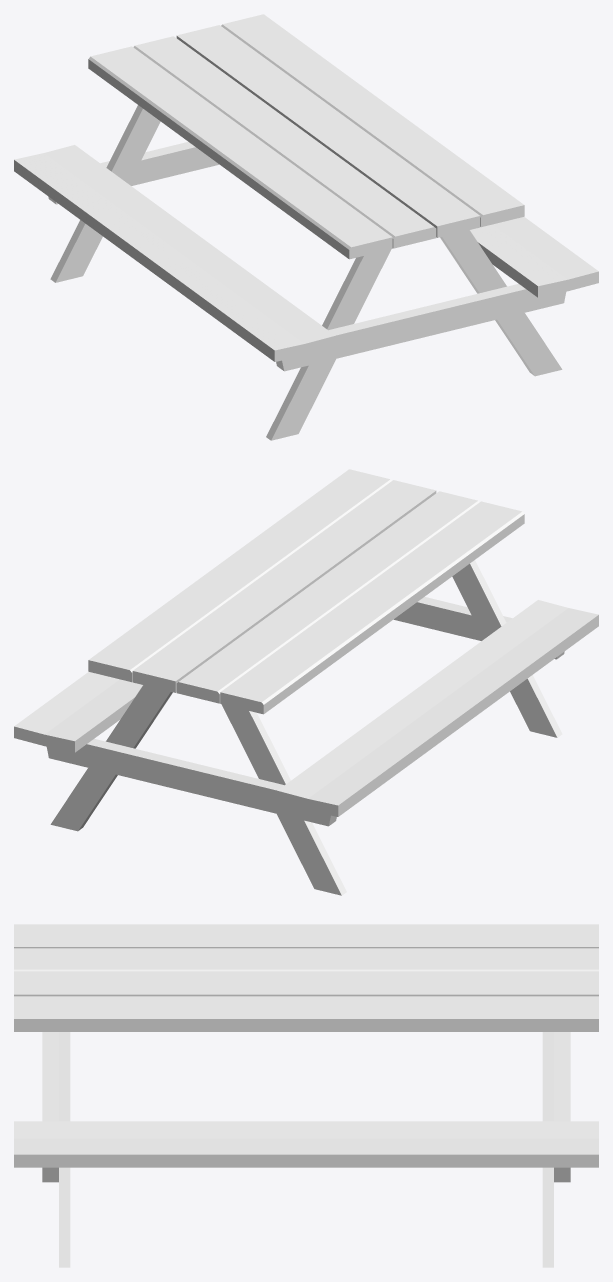
The model's file is Prop_Wooden_Table_01.glb.
The picture shows the model from 3 angles, top to bottom: view 1: azimuth 30°, elevation 25°; view 2: azimuth 150°, elevation 25°; view 3: azimuth 270°, elevation 25°; orthographic projection. The views are drawn at different scales.
Parts seen in each view (by area): view 1: Prop_Wooden_Table_01; view 2: Prop_Wooden_Table_01; view 3: Prop_Wooden_Table_01.
Part boxes in pixels (x1=…): Prop_Wooden_Table_01: x1=14, y1=14, x2=598, y2=440; Prop_Wooden_Table_01: x1=14, y1=469, x2=598, y2=895; Prop_Wooden_Table_01: x1=14, y1=924, x2=598, y2=1267.
Bounding box in the file's own units: 1.29 × 0.7366 × 1.8.
1 material, 1 textured.
